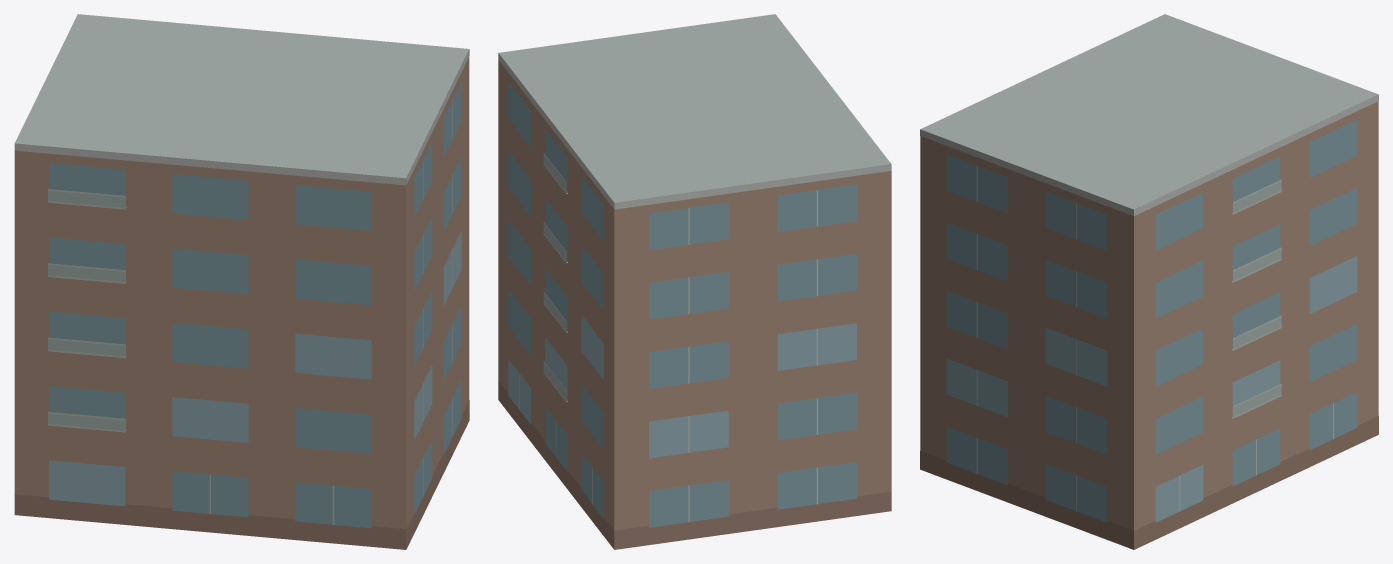
Rendered from survey-upis-32712313.glb.
3 renders of one model, left to right at view 1: azimuth 30°, elevation 25°; view 2: azimuth 150°, elevation 25°; view 3: azimuth 270°, elevation 25°, orthographic. The views are drawn at different scales.
Visible parts, largest first — view 1: survey-upis-32712313.tmp; view 2: survey-upis-32712313.tmp; view 3: survey-upis-32712313.tmp.
Part boxes in pixels (x1,y1,x2,y2): survey-upis-32712313.tmp: (14, 14, 469, 549); survey-upis-32712313.tmp: (498, 14, 891, 549); survey-upis-32712313.tmp: (920, 14, 1378, 549).
Size of the model in its own units: 15.55 by 12.6 by 15.4.
